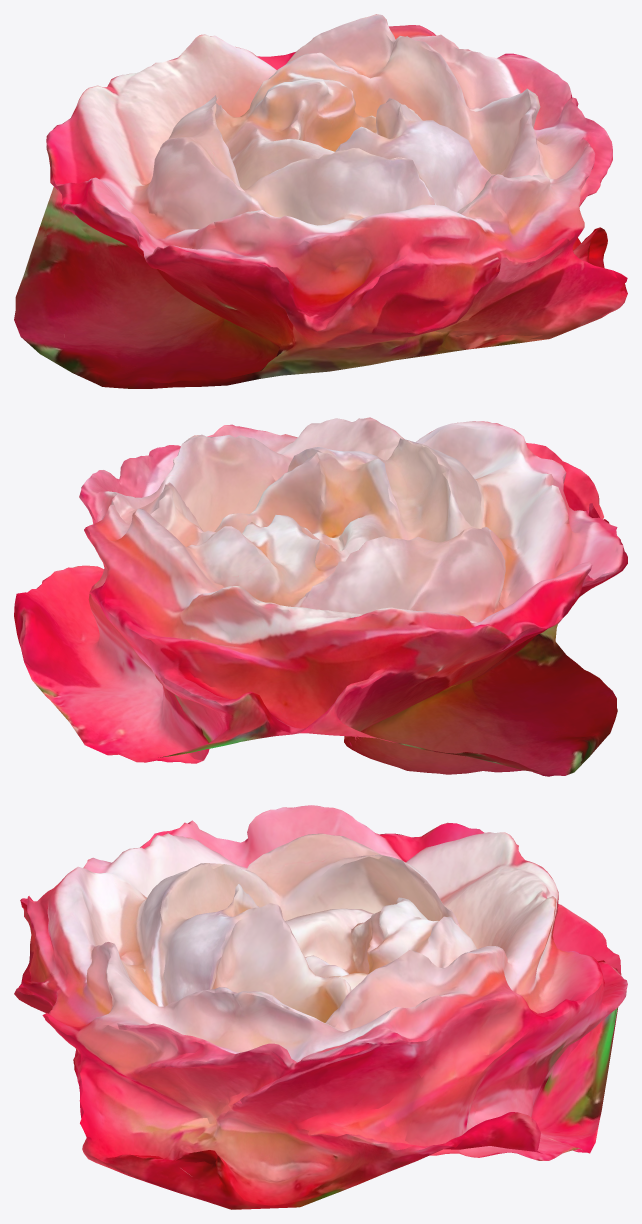
File: HoaHongTrang.glb
3 renders of one model, top to bottom at view 1: azimuth 30°, elevation 25°; view 2: azimuth 150°, elevation 25°; view 3: azimuth 270°, elevation 25°, orthographic. The views are drawn at different scales.
Parts seen in each view (by area): view 1: Object_4; view 2: Object_4; view 3: Object_4.
Boxes of the visible parts, x1,y1,x2,y2 form: Object_4: [14, 14, 627, 388]; Object_4: [14, 417, 627, 776]; Object_4: [14, 805, 627, 1209].
Size of the model in its own units: 0.0869 by 0.0357 by 0.0848.
1 material, 1 textured.
